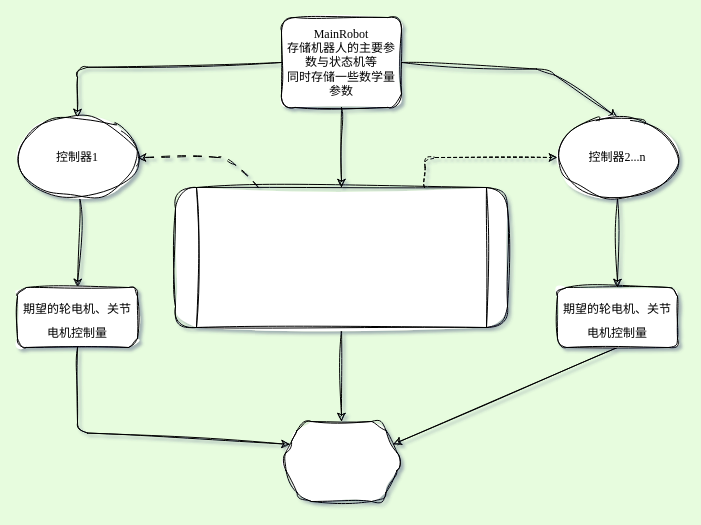
This 701x525 diagram has some shape labels left out. Here are the shapes that lost their labels. From the top down, the centre of each, then its label:
(x=341, y=257): 陀螺仪姿态信息 关节电机位置->腿坐标与一些角度参数（θ等） 轮电机的速度与状态 对应轮电机、关节电机的期望控制量
(x=341, y=461): 多控制器 输出期望值累加
